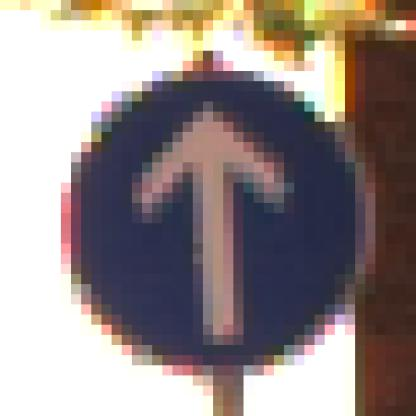AheadOnly: (52, 52, 356, 366)
